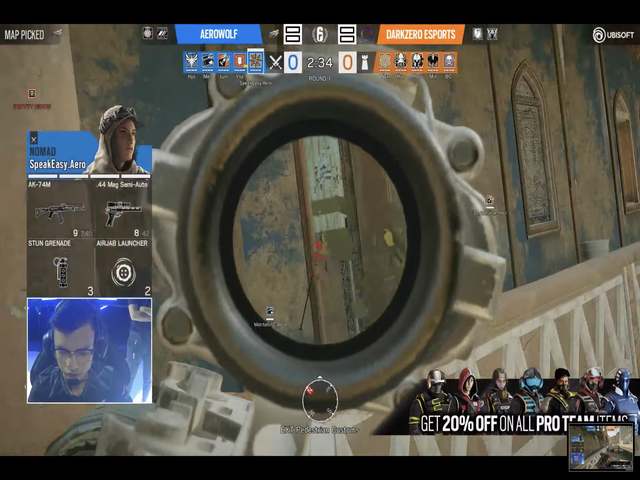0_blue: (283, 50, 304, 74)
